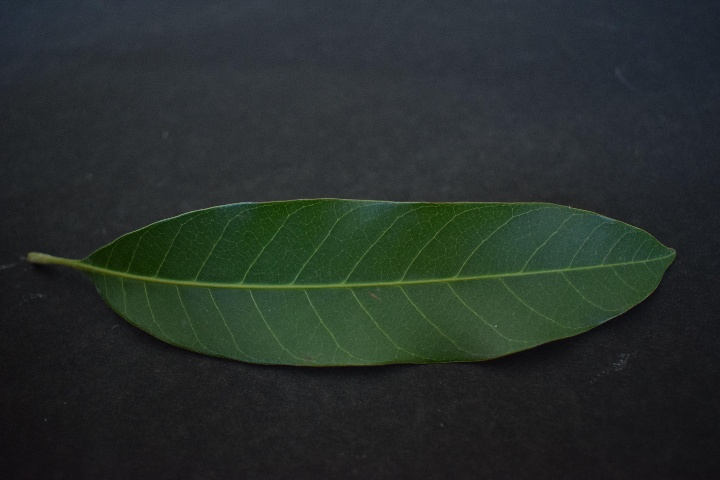healthy: (101, 197, 635, 364)
